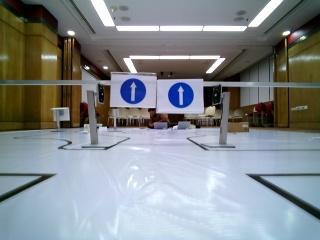straight: (113, 74, 158, 106), (157, 79, 201, 111)
